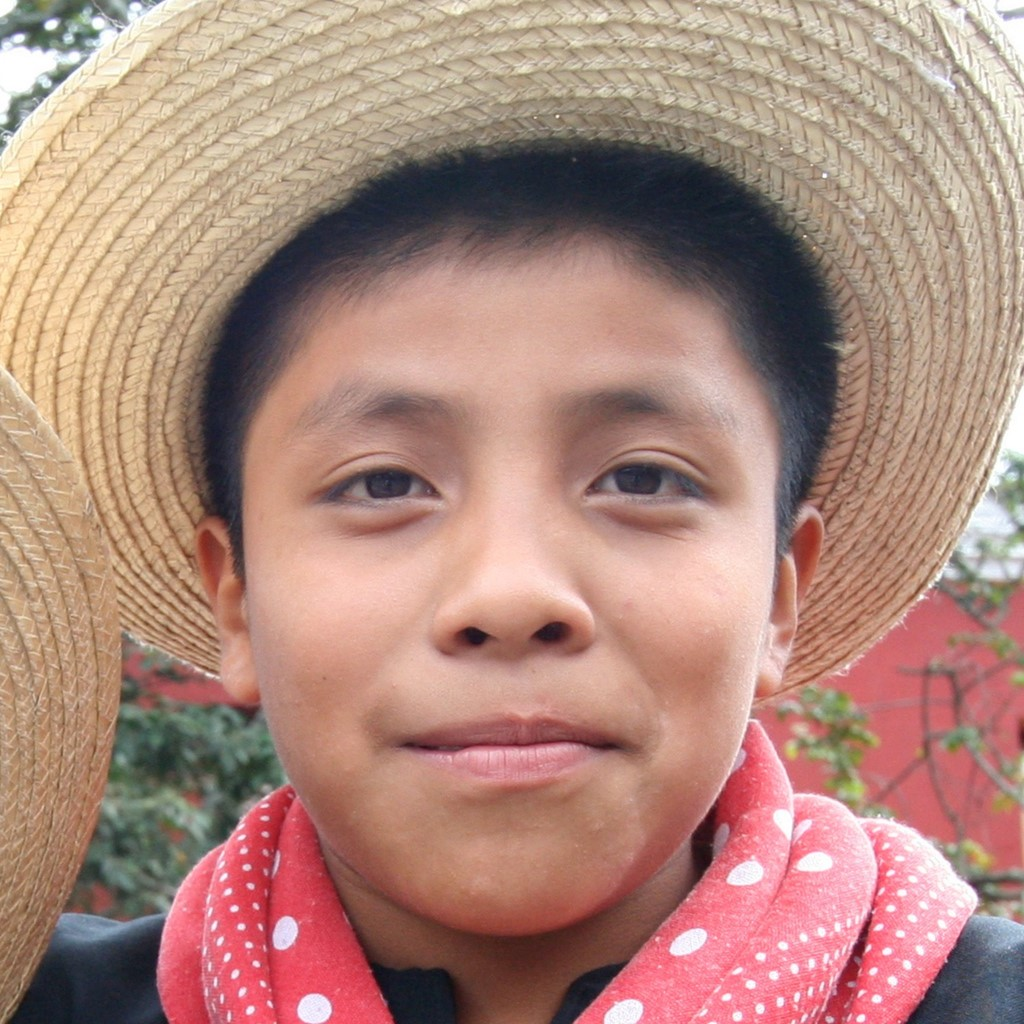sin_mascara: (258, 180, 805, 918)
